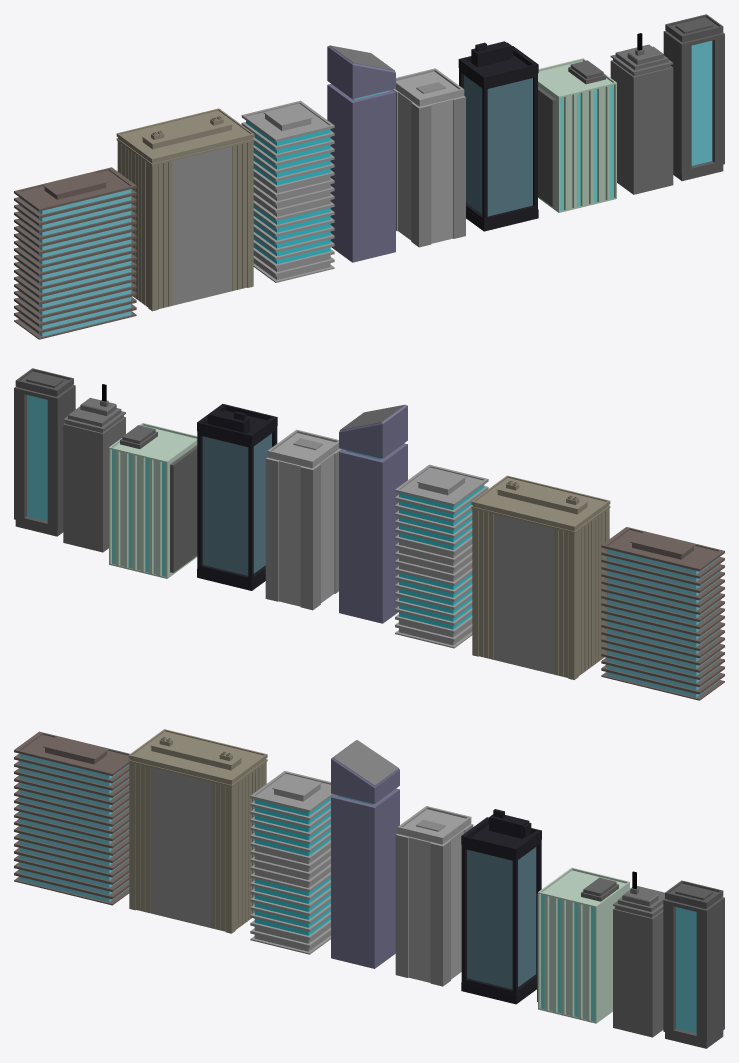
Rendered from homes.fbx.
The picture shows the model from 3 angles, top to bottom: view 1: azimuth 30°, elevation 25°; view 2: azimuth 150°, elevation 25°; view 3: azimuth 330°, elevation 25°; orthographic projection.
Visible parts, largest first — view 1: Highrise_14, Highrise_12, Highrise_19, Highrise_16, Highrise_10, Highrise_7, Highrise_2, Highrise_4, Highrise_1; view 2: Highrise_14, Highrise_12, Highrise_19, Highrise_16, Highrise_10, Highrise_2, Highrise_7, Highrise_4, Highrise_1; view 3: Highrise_14, Highrise_12, Highrise_16, Highrise_10, Highrise_19, Highrise_7, Highrise_2, Highrise_4, Highrise_1.
Part boxes in pixels (bbox=[...]): Highrise_14: bbox=[116, 108, 254, 311]; Highrise_12: bbox=[14, 167, 136, 339]; Highrise_19: bbox=[241, 100, 334, 282]; Highrise_16: bbox=[327, 45, 395, 262]; Highrise_10: bbox=[458, 41, 538, 231]; Highrise_7: bbox=[392, 68, 465, 247]; Highrise_2: bbox=[538, 58, 616, 212]; Highrise_4: bbox=[663, 14, 724, 181]; Highrise_1: bbox=[610, 33, 673, 194]; Highrise_14: bbox=[471, 475, 610, 679]; Highrise_12: bbox=[601, 527, 724, 700]; Highrise_19: bbox=[395, 464, 488, 648]; Highrise_16: bbox=[339, 404, 407, 623]; Highrise_10: bbox=[197, 404, 277, 590]; Highrise_2: bbox=[109, 423, 197, 578]; Highrise_7: bbox=[265, 429, 342, 610]; Highrise_4: bbox=[14, 368, 75, 536]; Highrise_1: bbox=[63, 384, 125, 552]; Highrise_14: bbox=[128, 729, 267, 933]; Highrise_12: bbox=[14, 731, 130, 905]; Highrise_16: bbox=[331, 740, 399, 968]; Highrise_10: bbox=[461, 809, 541, 1004]; Highrise_19: bbox=[250, 771, 334, 954]; Highrise_7: bbox=[395, 806, 473, 986]; Highrise_2: bbox=[537, 867, 629, 1023]; Highrise_4: bbox=[663, 880, 724, 1048]; Highrise_1: bbox=[613, 871, 664, 1037].
Size of the model in its own units: 2367 by 656 by 220.
